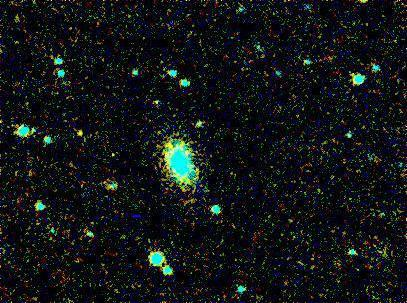star: (65, 118, 95, 148)
